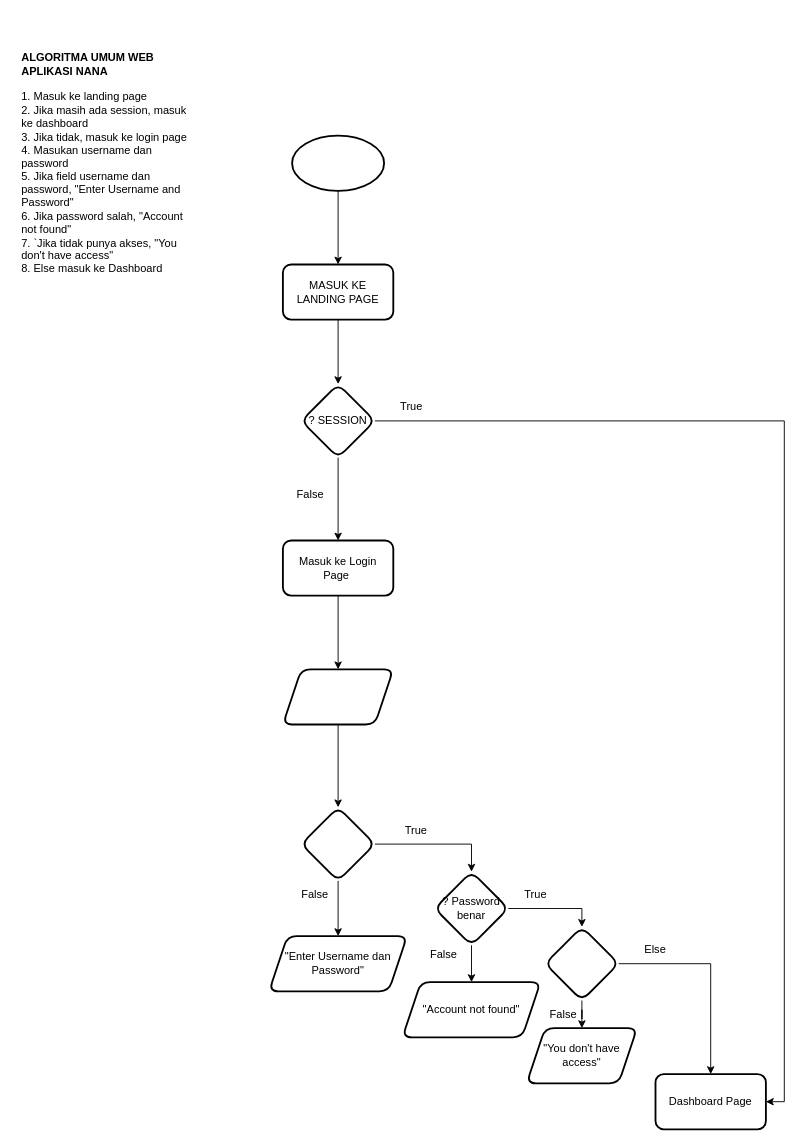
The diagram is 808 pixels wide and 1145 high, and some of its shapes have lost their labels. The centre of each missing label's shape, as x and y in pixels:
? Field Terisi: (337,843)
? Punya Akses: (581,963)
Input Username dan Password: (338,696)
START: (338,162)
